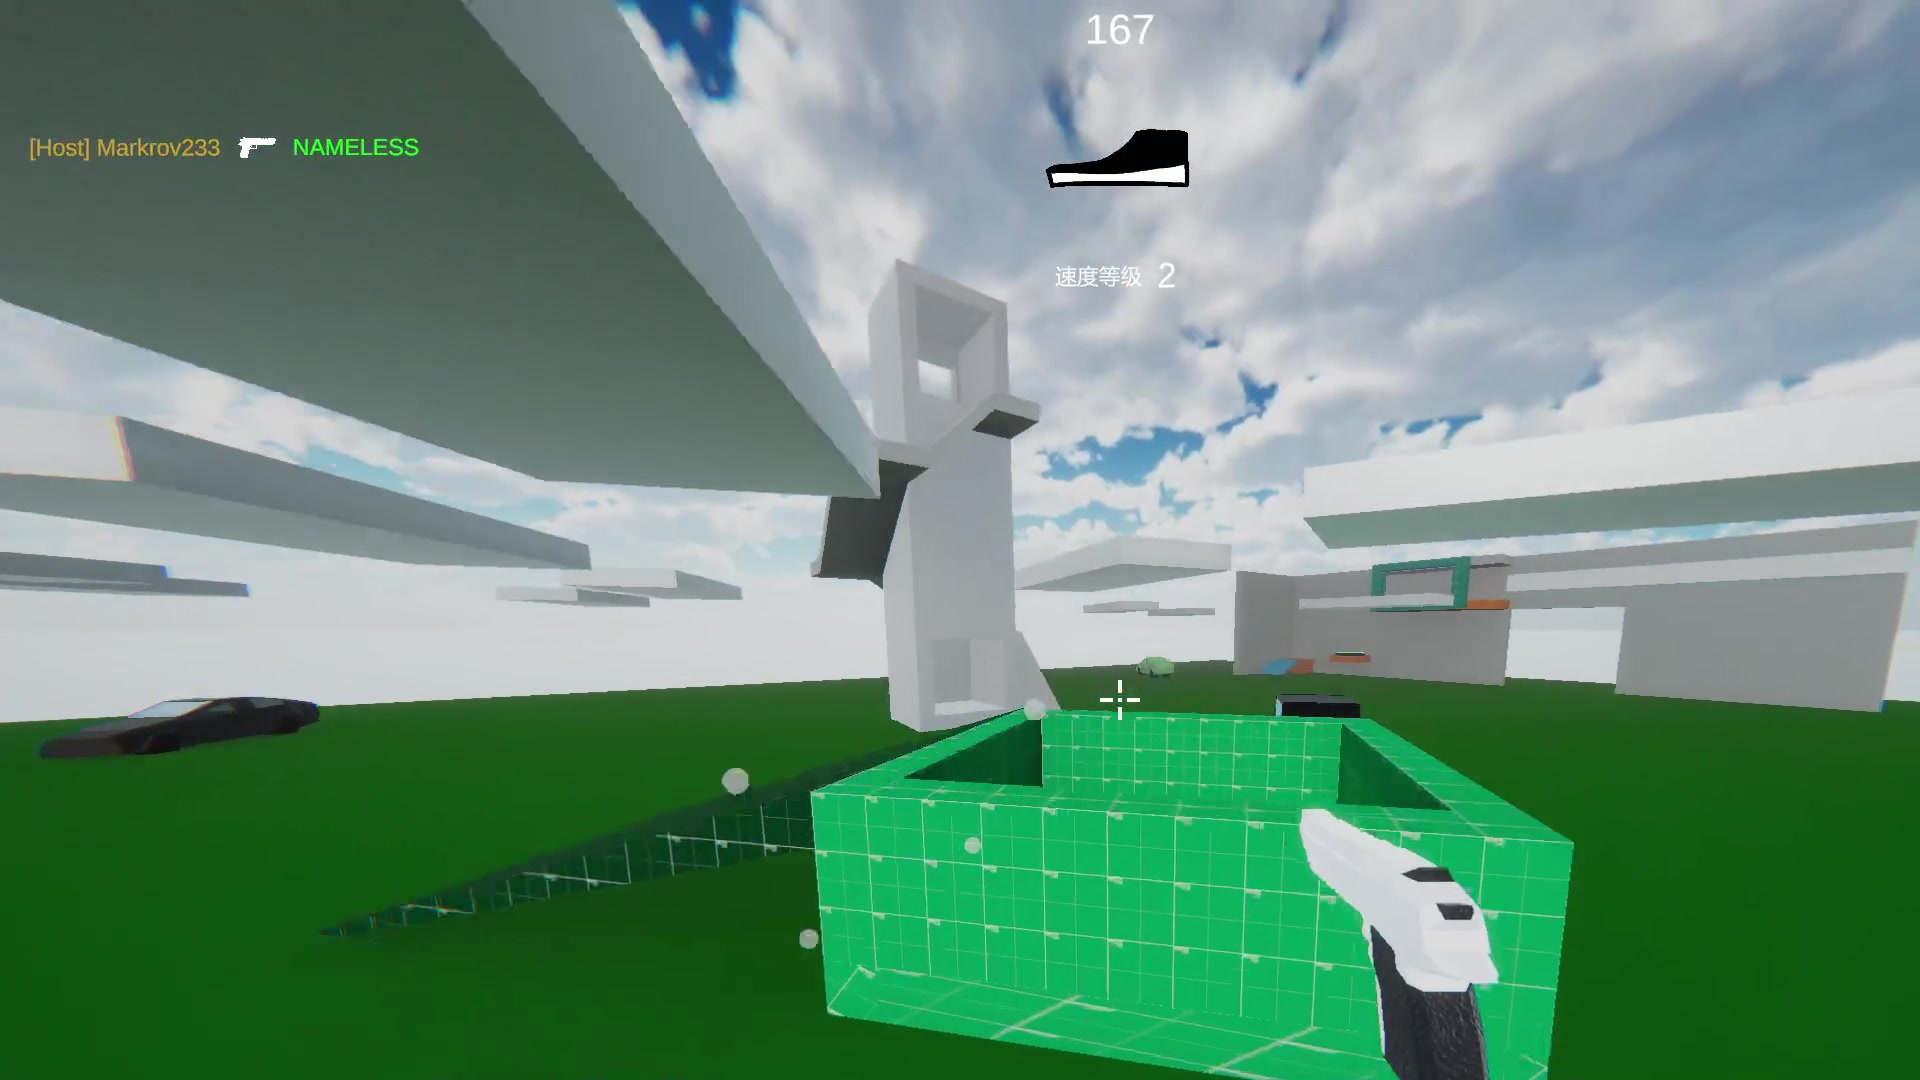human: (1111, 678, 1133, 722)
